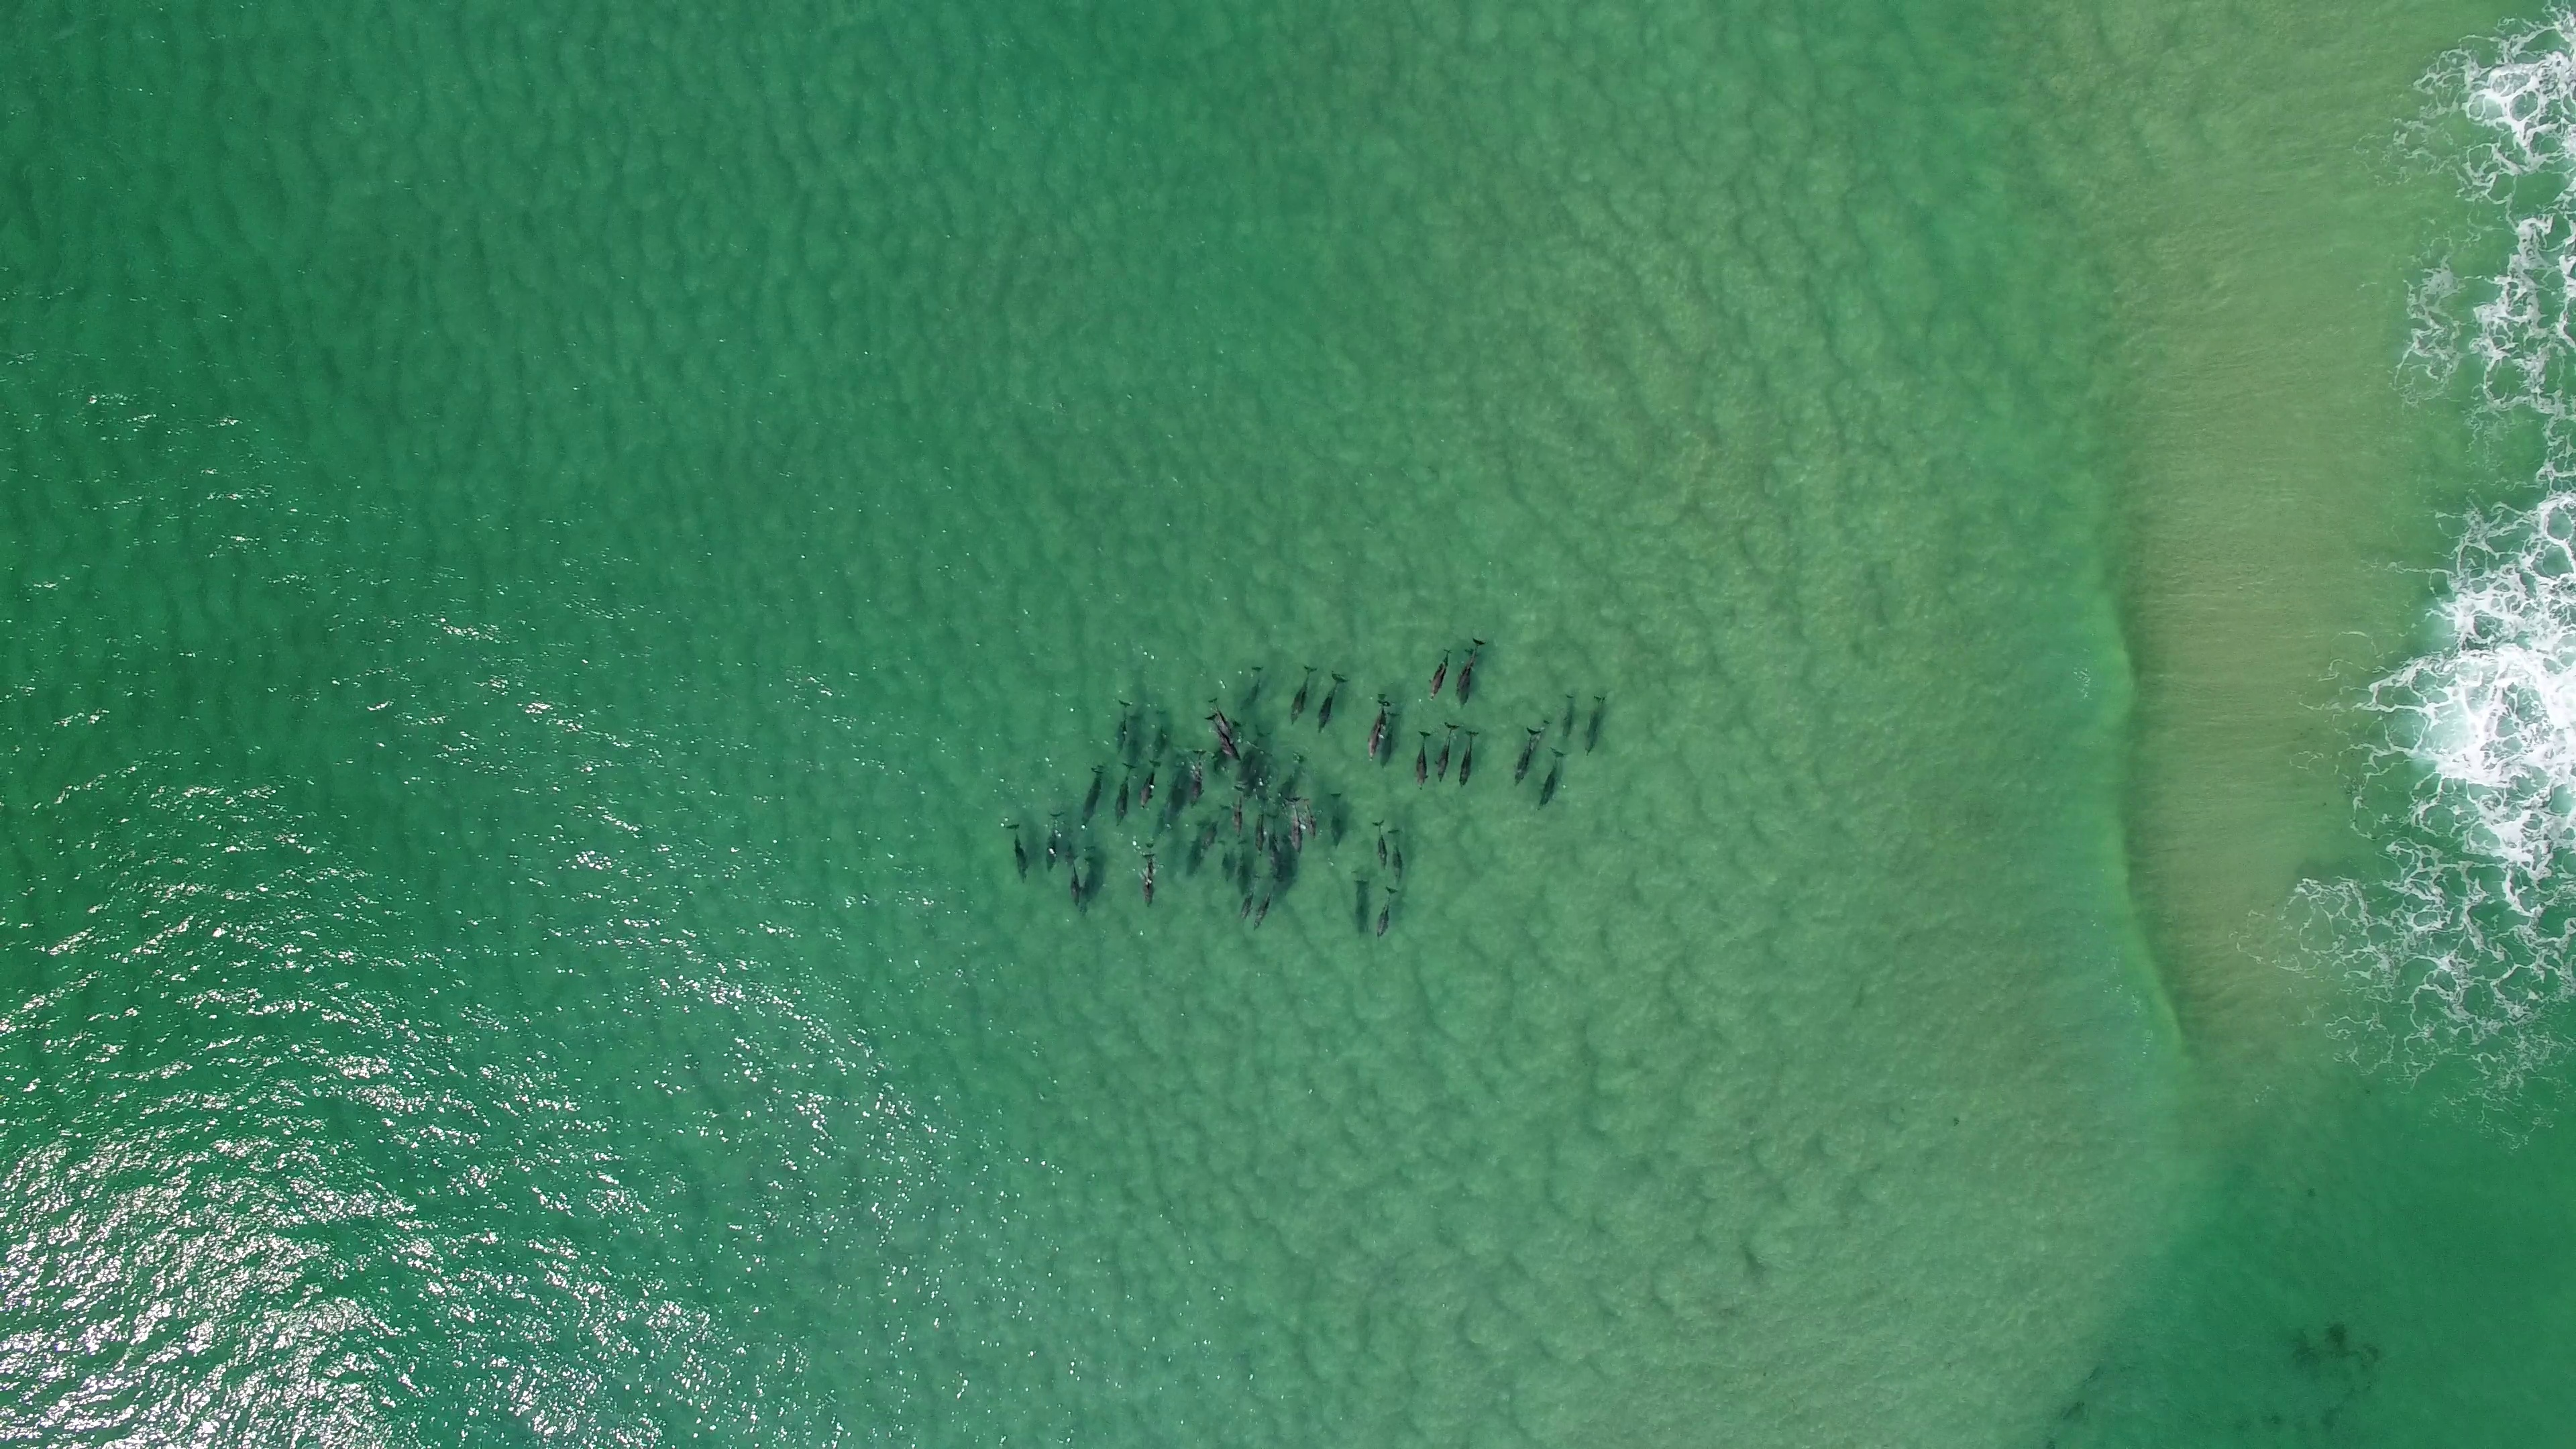dolphin: (1077, 764, 1109, 833), (1000, 823, 1033, 885), (1537, 747, 1568, 814), (1316, 671, 1346, 738), (1366, 695, 1396, 761), (1203, 713, 1242, 763), (1511, 725, 1539, 791), (1290, 662, 1318, 727), (1582, 694, 1610, 757), (1253, 874, 1283, 932), (1238, 747, 1270, 801), (1113, 759, 1138, 828), (1456, 648, 1483, 711), (1458, 637, 1484, 697), (1428, 644, 1454, 704), (1136, 757, 1162, 816), (1042, 809, 1065, 876), (1261, 812, 1284, 878), (1201, 801, 1231, 851), (1435, 720, 1458, 784), (1065, 847, 1086, 915), (1414, 727, 1433, 798), (1207, 699, 1238, 741), (1189, 747, 1210, 810), (1240, 663, 1267, 713), (1185, 819, 1207, 881), (1378, 883, 1401, 939), (1350, 878, 1369, 941), (1283, 796, 1304, 855), (1251, 796, 1272, 855), (1380, 708, 1399, 770), (1113, 697, 1134, 752), (1148, 706, 1169, 761), (1458, 729, 1477, 787), (1237, 872, 1258, 924), (1083, 842, 1100, 902), (1329, 789, 1345, 855), (1143, 842, 1157, 911), (1371, 821, 1391, 870), (1389, 824, 1403, 886), (1230, 786, 1246, 840), (1560, 690, 1576, 741), (1300, 798, 1318, 844), (1215, 839, 1233, 883)
